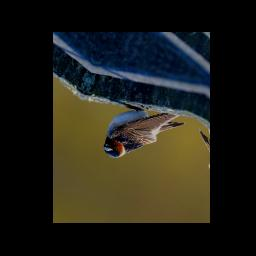Swallow: (98, 86, 189, 182)
